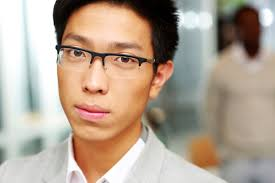g.y: (100, 52, 142, 79)
